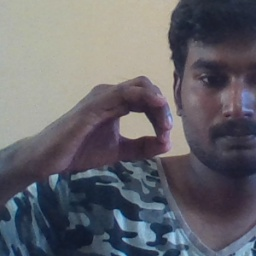O: (45, 72, 181, 178)
